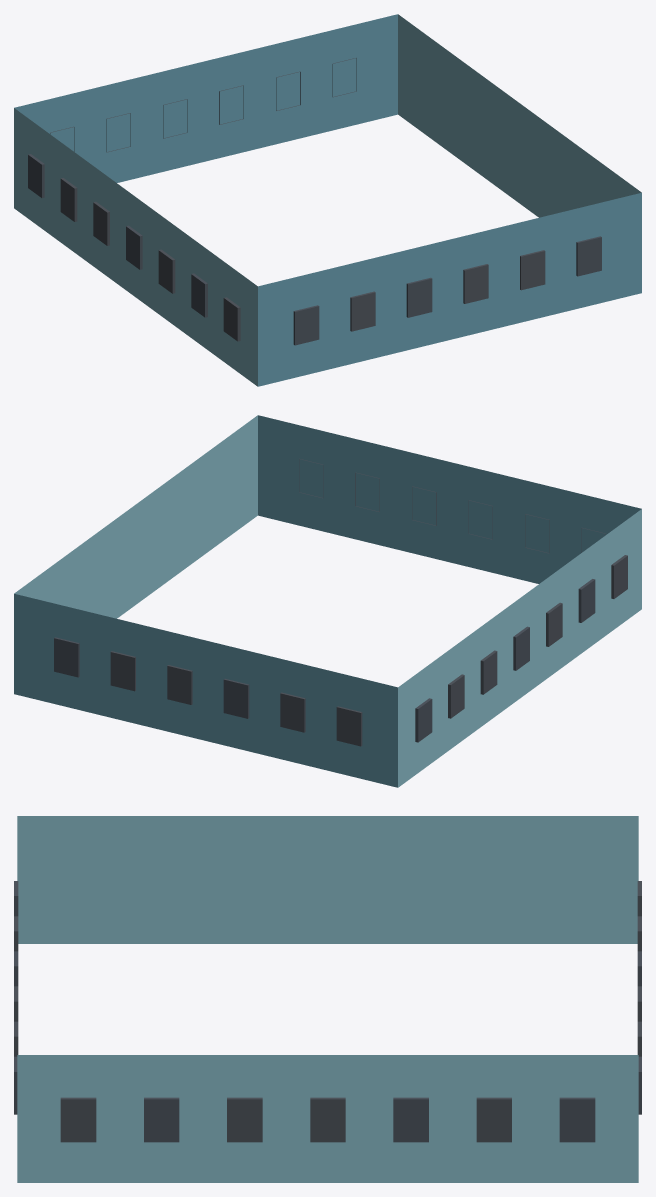
The model's file is TB_CITY_Skysc_S_UpperBodyA_Blue.FBX.
3 renders of one model, top to bottom at view 1: azimuth 30°, elevation 25°; view 2: azimuth 150°, elevation 25°; view 3: azimuth 270°, elevation 25°, orthographic. The views are drawn at different scales.
Parts seen in each view (by area): view 1: TB_CITY_Skysc_S_UpperBodyA_Blue; view 2: TB_CITY_Skysc_S_UpperBodyA_Blue; view 3: TB_CITY_Skysc_S_UpperBodyA_Blue.
Part boxes in pixels (left/top/right/bottom): TB_CITY_Skysc_S_UpperBodyA_Blue: left=14, top=14, right=641, bottom=386; TB_CITY_Skysc_S_UpperBodyA_Blue: left=14, top=415, right=641, bottom=787; TB_CITY_Skysc_S_UpperBodyA_Blue: left=14, top=816, right=641, bottom=1182.
Size of the model in its own units: 20.32 by 5 by 22.23.
